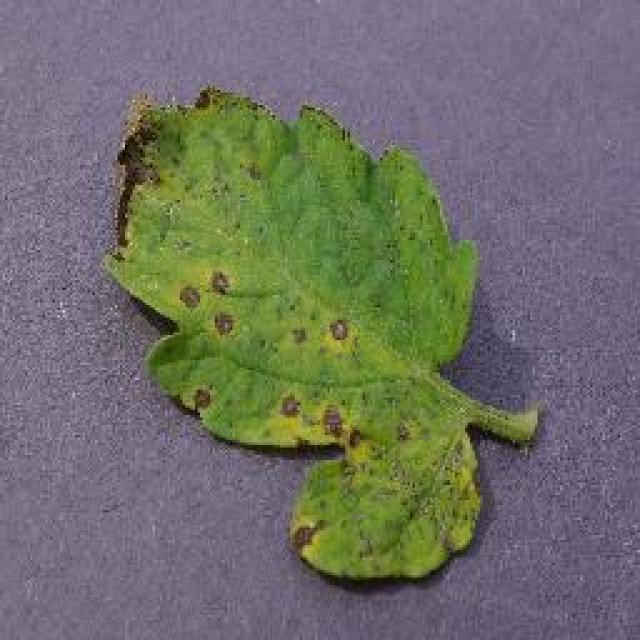Tomato Septoria spot leaf: (102, 84, 487, 584)
